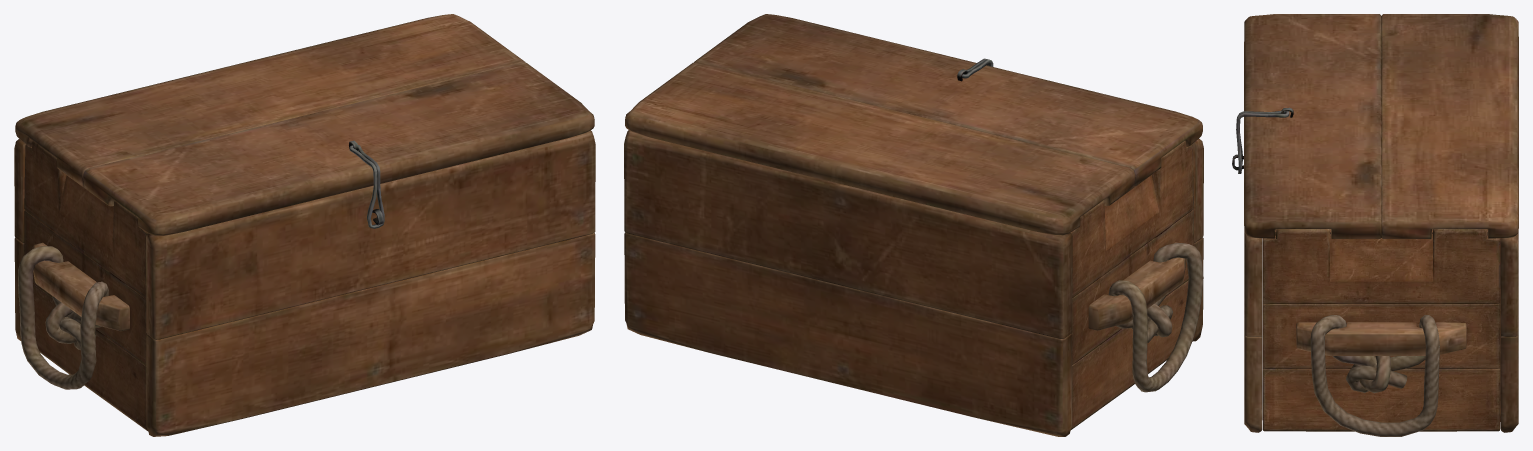
The model's file is wooden-crate.glb.
3 renders of one model, left to right at view 1: azimuth 30°, elevation 25°; view 2: azimuth 150°, elevation 25°; view 3: azimuth 270°, elevation 25°, orthographic. The views are drawn at different scales.
Parts seen in each view (by area): view 1: wooden_crate_01_lid; view 2: wooden_crate_01_lid; view 3: wooden_crate_01_lid.
Part boxes in pixels (x1,y1,x2,y2): wooden_crate_01_lid: (14, 14, 595, 436); wooden_crate_01_lid: (624, 14, 1203, 436); wooden_crate_01_lid: (1232, 14, 1518, 436).
Size of the model in its own units: 0.8253 by 0.3495 by 0.4084.
1 material, 1 textured.
